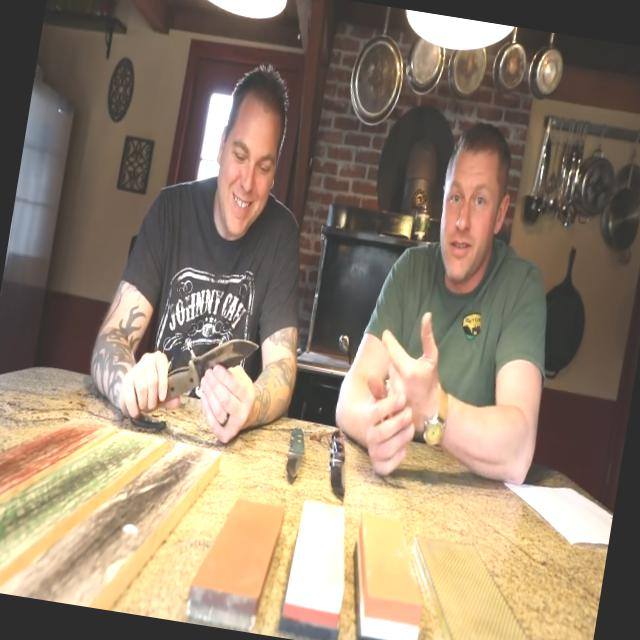knife: (170, 316, 270, 408)
